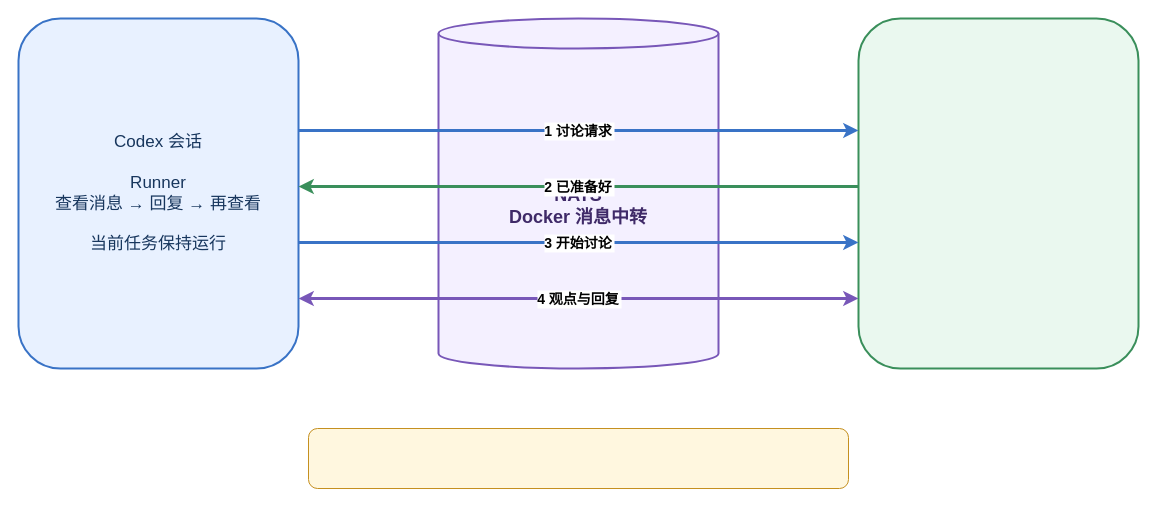
The diagram is 1156 pixels wide and 506 high, and some of its shapes have lost their labels. The shapes that lost their labels are listed below. From the top down, each one's centre as x and y in pixels, then its label:
At point 998,193: "Claude 会话 Runner 查看消息 → 回复 → 再查看 当前任务保持运行".
At point 578,458: "结束：达成目标，或达到轮次上限".
